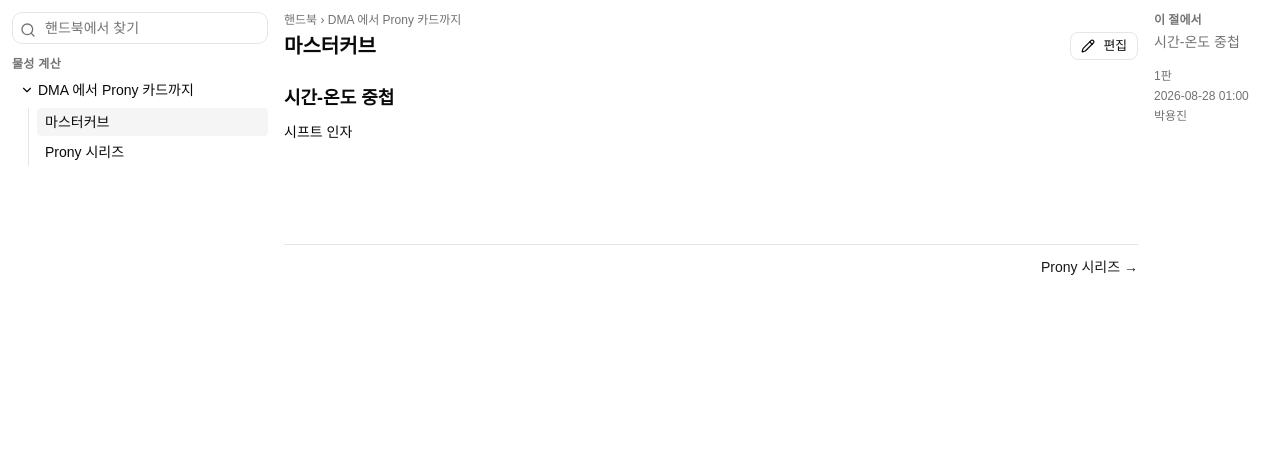
절 › 검토자는 바로 반영한다
Click the button "편집". click: (1104, 46)
box: [1070,32,1138,60]
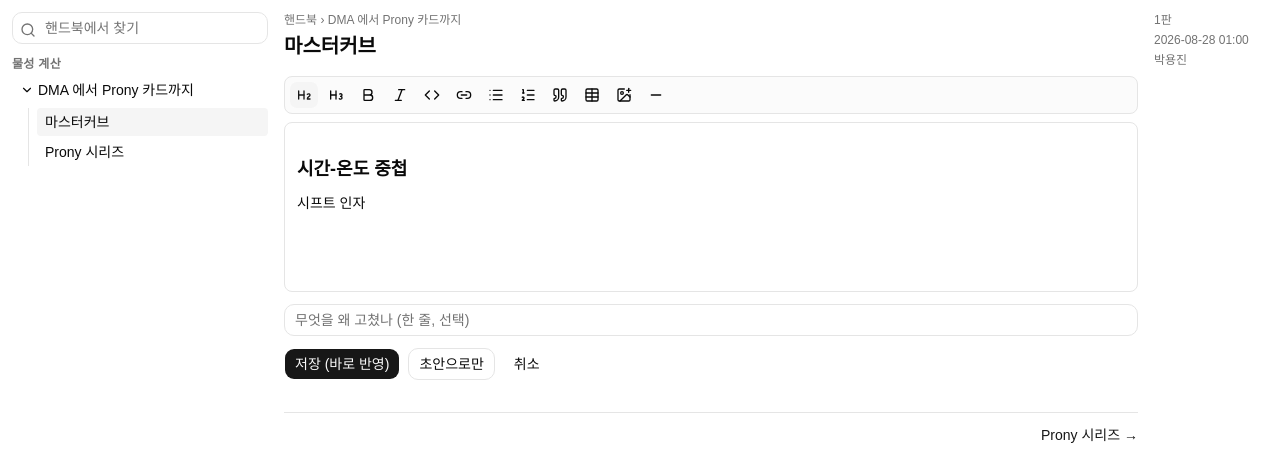
Click the button "저장 (바로 반영)". click: (342, 364)
box: [284,348,400,380]
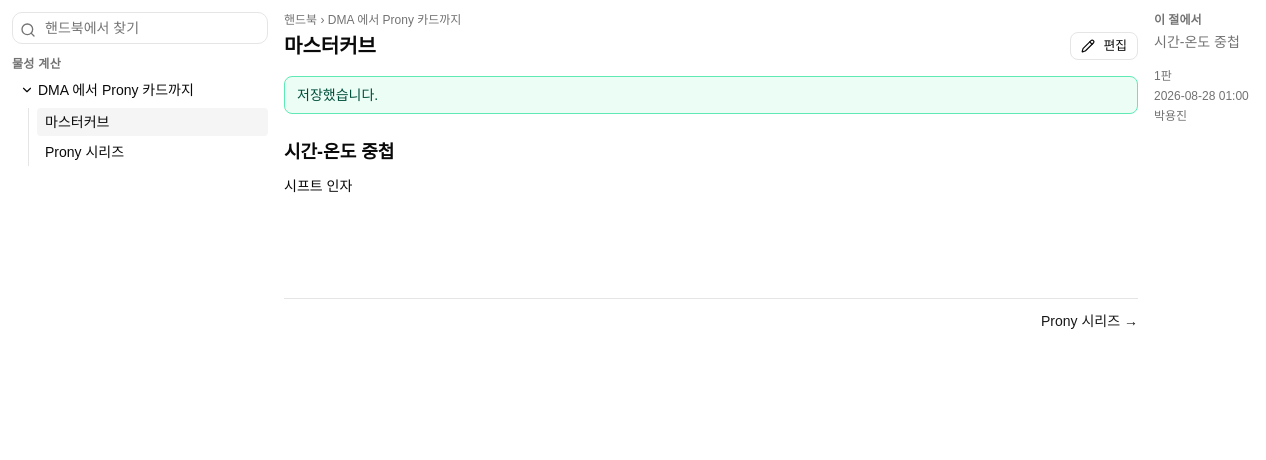
expect the text "저장했습니다." is shown: met, box [284,76,1138,114]
